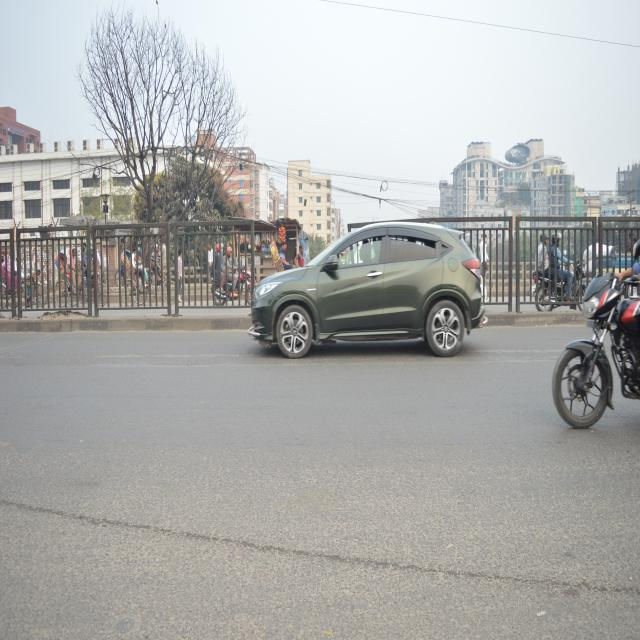microbus: (244, 212, 494, 349)
motorbike: (549, 250, 640, 440), (530, 252, 584, 311), (205, 256, 259, 313)
